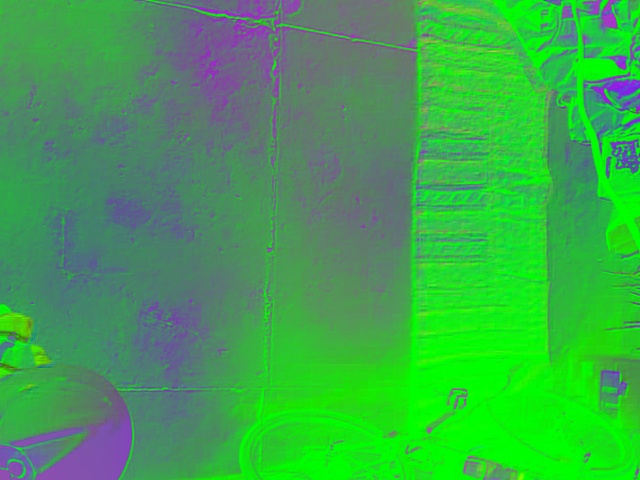eight: (0, 445, 41, 479)
